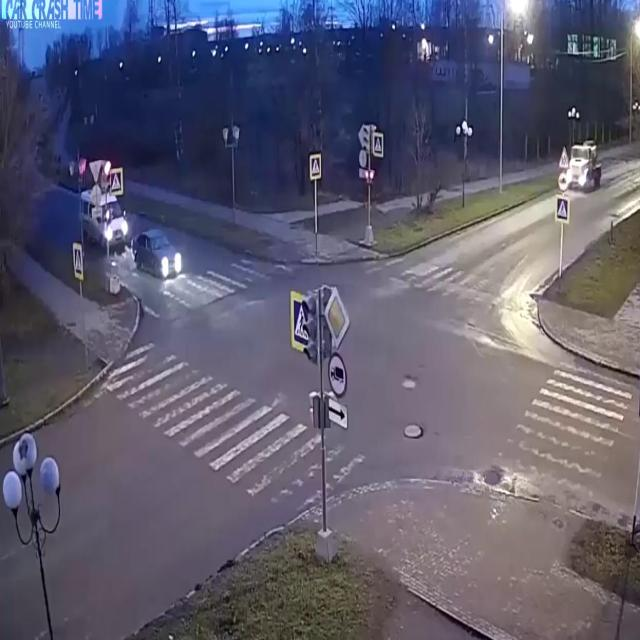non_accident: (75, 182, 186, 282)
